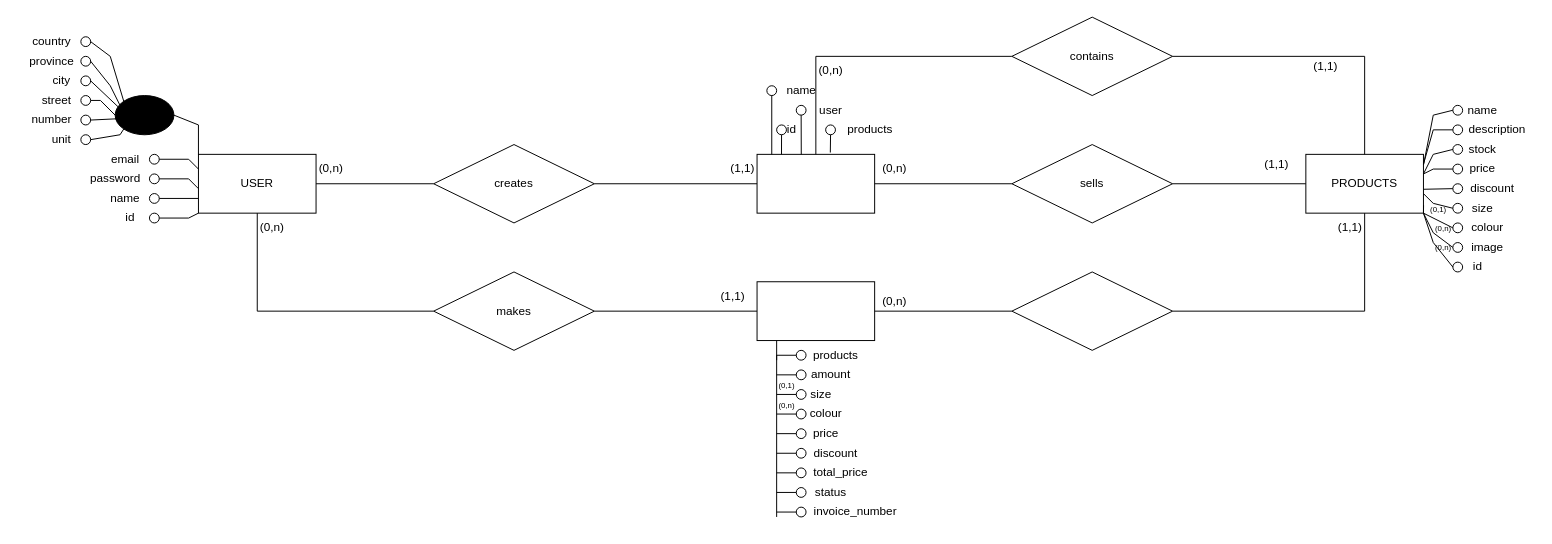
This 1552x544 diagram has some shape labels left out. The centre of each missing label's shape, as x and y in pixels:
buys: point (1092, 310)
ORDER: point (815, 311)
SHOP: point (815, 183)
